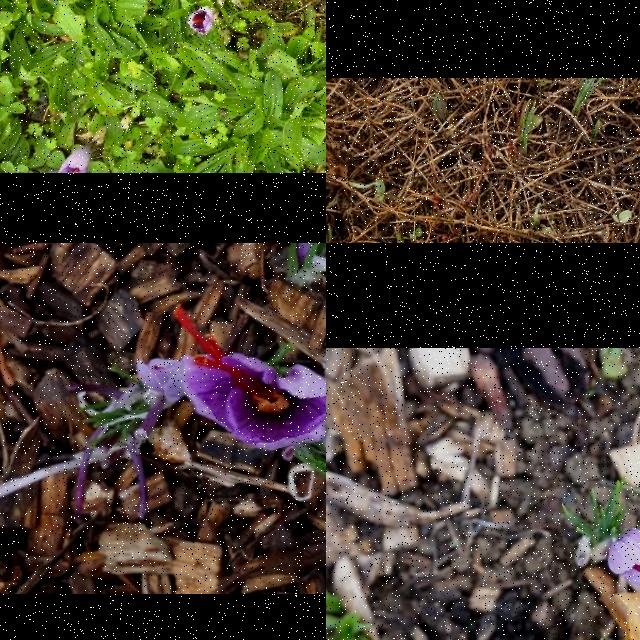flower: (156, 303, 326, 450), (607, 530, 640, 586), (58, 146, 92, 174), (187, 6, 216, 36)
